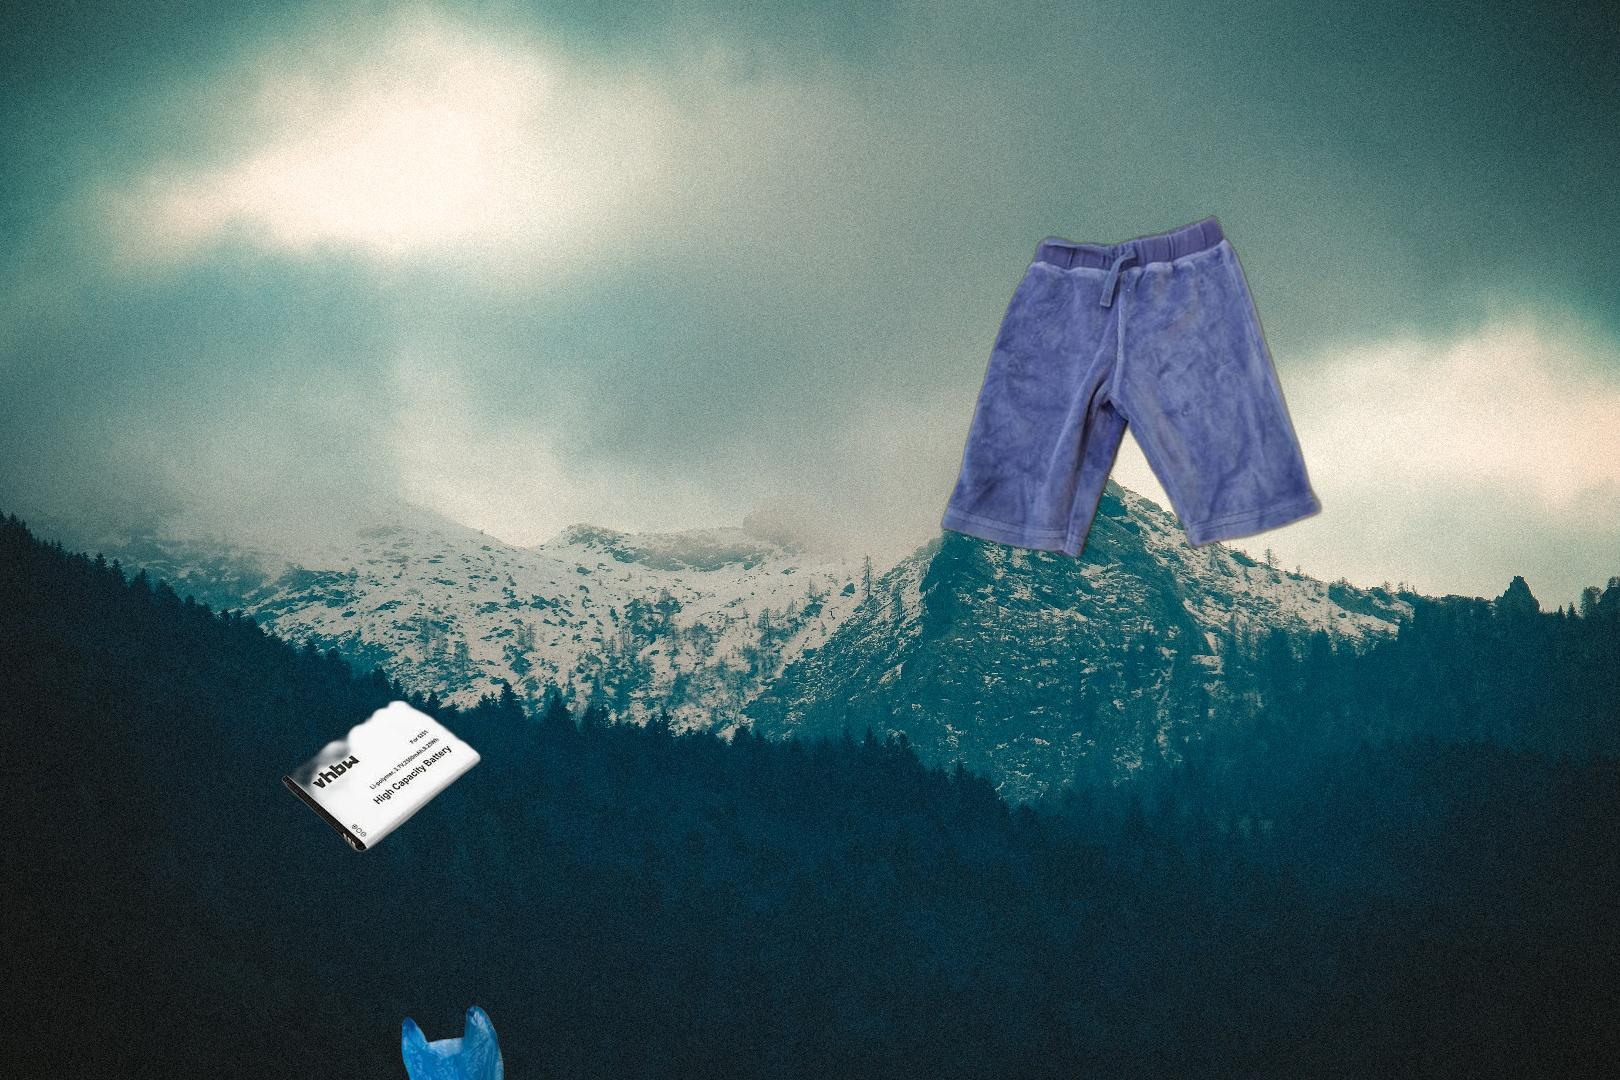battery: (237, 686, 485, 868)
clothes: (938, 212, 1326, 564)
glass: (1618, 575, 1620, 714)
plastic-bag: (352, 1000, 507, 1080)
plastic-bottles: (1619, 575, 1620, 839)
